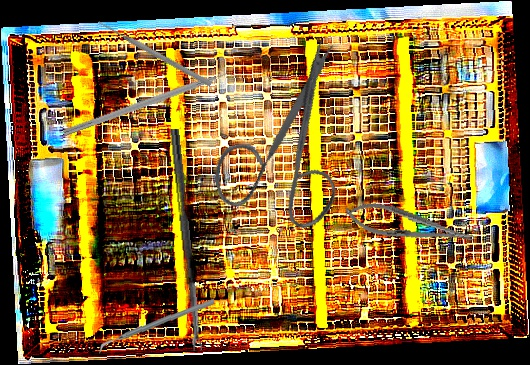Chopper: (62, 65, 245, 146), (98, 294, 215, 358)
Iris Scissors: (182, 34, 385, 250)
Needle Holder: (342, 195, 477, 256)
Pusher: (96, 18, 213, 88)
Surgical Spoon: (168, 128, 203, 352)
